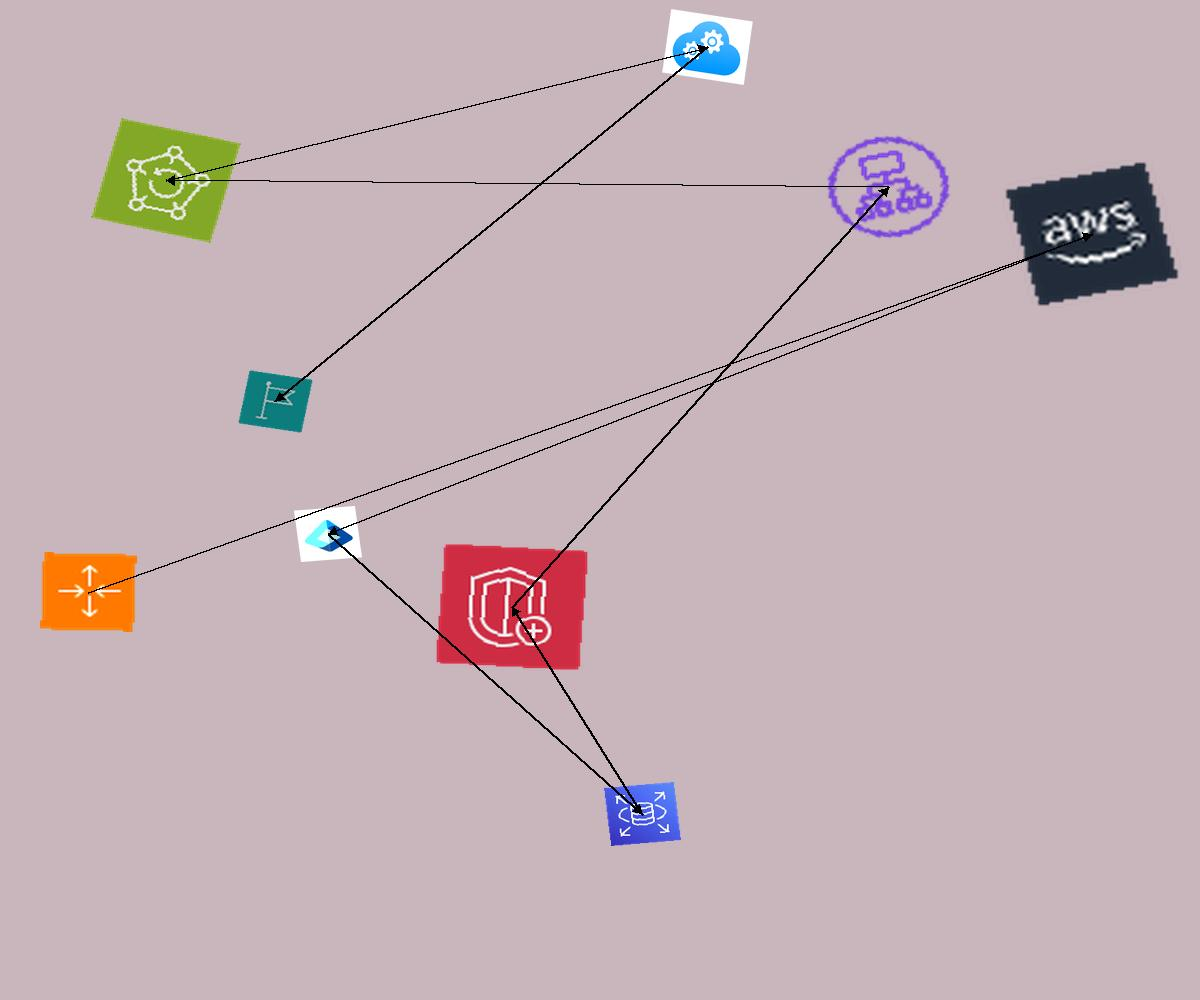AWS-Backup: (91, 118, 241, 243)
AWS-Cloud-logo: (1003, 160, 1181, 308)
AWS-RDS: (604, 782, 681, 846)
AWS-Region: (238, 370, 313, 433)
AWS-Res_Elastic-Load-Balancing_Application-Load-Balancer: (807, 119, 970, 255)
AWS-Scaling-group: (40, 552, 137, 632)
AWS-Shield: (435, 543, 589, 671)
Azure_cloud_services: (662, 9, 753, 85)
Azure_microsoft_entra: (294, 506, 362, 562)
